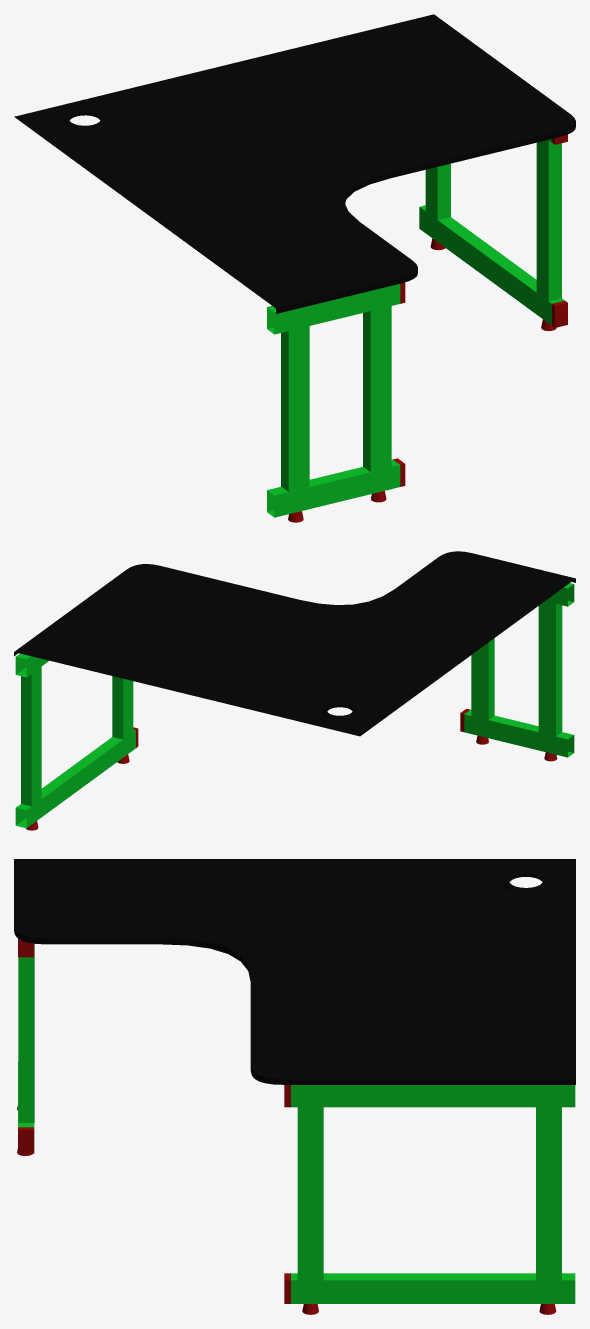
File: table.FBX
The picture shows the model from 3 angles, top to bottom: view 1: azimuth 30°, elevation 25°; view 2: azimuth 150°, elevation 25°; view 3: azimuth 270°, elevation 25°; orthographic projection. The views are drawn at different scales.
Parts seen in each view (by area): view 1: table_low; view 2: table_low; view 3: table_low.
Boxes of the visible parts, x1=… form: table_low: x1=14, y1=14, x2=575, y2=522; table_low: x1=14, y1=551, x2=575, y2=830; table_low: x1=14, y1=859, x2=575, y2=1314.
Bounding box in the file's own units: 160 × 81.53 × 173.
